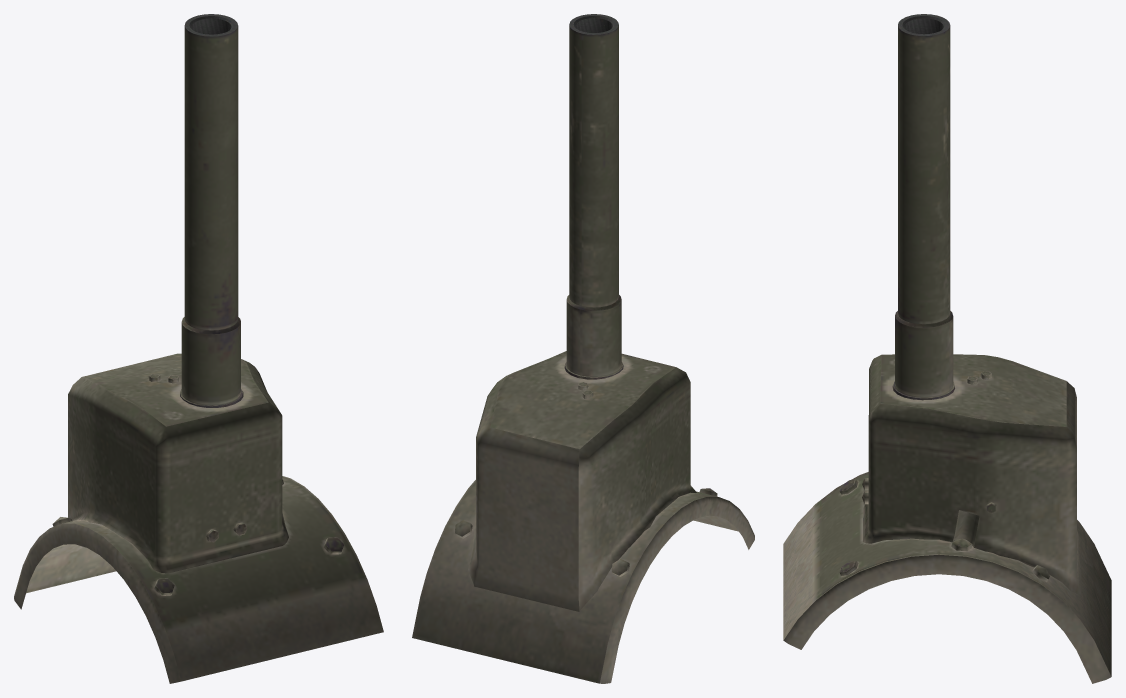
File: Gun_01.glb
3 renders of one model, left to right at view 1: azimuth 30°, elevation 25°; view 2: azimuth 150°, elevation 25°; view 3: azimuth 270°, elevation 25°, orthographic. The views are drawn at different scales.
Visible parts, largest first — view 1: set_0_group_0; view 2: set_0_group_0; view 3: set_0_group_0.
Part boxes in pixels (left/top/right/bottom): set_0_group_0: left=14, top=14, right=383, bottom=683; set_0_group_0: left=412, top=14, right=754, bottom=683; set_0_group_0: left=783, top=14, right=1111, bottom=683.
Size of the model in its own units: 0.7263 by 2.08 by 1.02.
Materials: 1 (1 with a texture image).
